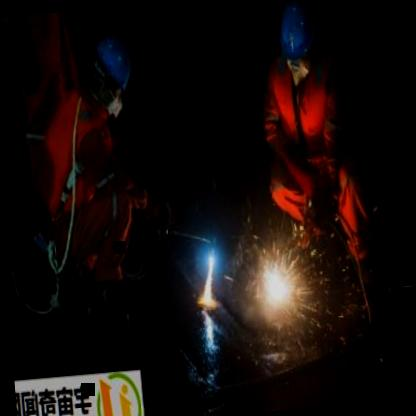helmet: (271, 0, 327, 84), (86, 28, 136, 116)
